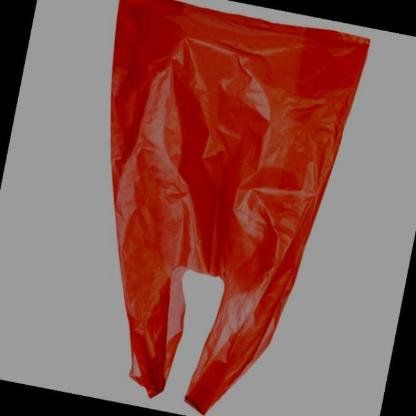Plastic Bag: (109, 1, 370, 415)
